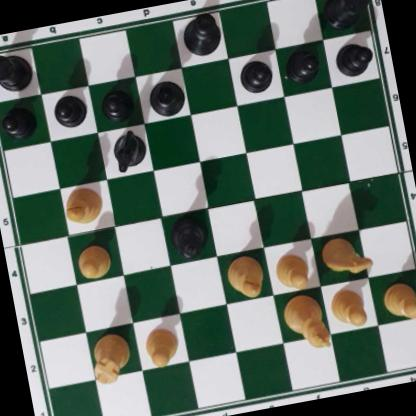black-bishop: (145, 77, 190, 121)
black-king: (178, 10, 227, 60)
black-knight: (108, 128, 151, 174)
black-pawn: (332, 37, 374, 79), (236, 54, 274, 94), (98, 84, 135, 124), (0, 102, 38, 140), (50, 91, 87, 130), (284, 45, 321, 84)
black-queen: (165, 212, 210, 263)
black-rook: (0, 45, 36, 96), (320, 0, 374, 30)
white-bishop: (223, 253, 268, 303), (60, 183, 106, 227)
white-king: (280, 290, 333, 356)
white-knight: (317, 230, 377, 282)
white-pawn: (327, 285, 370, 331), (141, 323, 182, 370), (270, 248, 312, 291), (380, 278, 416, 321), (74, 242, 113, 280)
white-rook: (86, 330, 135, 387)
